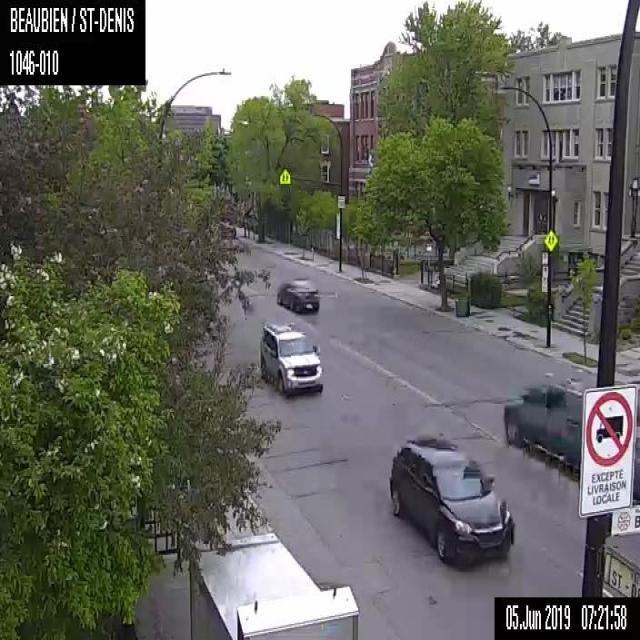vehicle: (503, 372, 639, 502), (389, 434, 514, 570), (260, 322, 324, 396), (276, 277, 319, 313)
